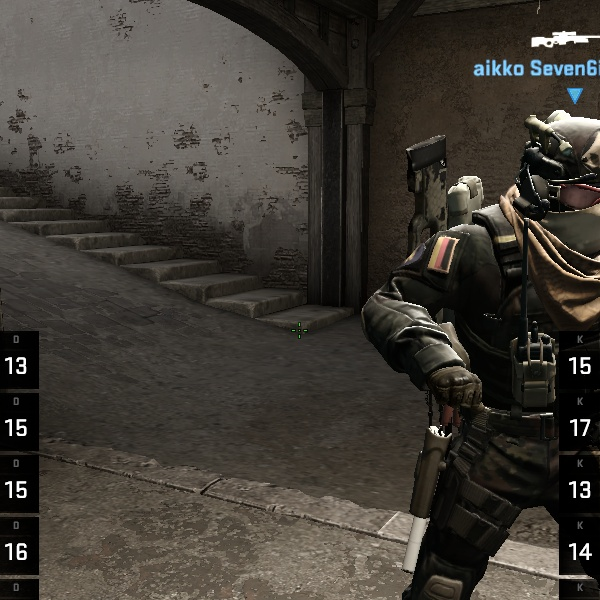ct_body: (356, 96, 600, 600)
ct_head: (509, 95, 600, 264)
